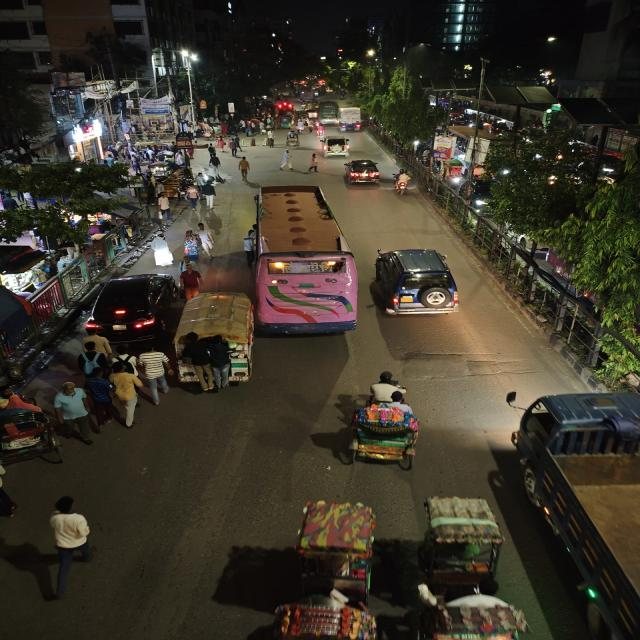bus: (245, 176, 356, 338), (317, 100, 340, 124)
car: (369, 244, 466, 322), (86, 269, 176, 336), (341, 157, 382, 188), (459, 179, 496, 209), (324, 136, 352, 156)
human_hauler: (168, 300, 250, 390)
motorcycle: (148, 230, 174, 268), (392, 169, 415, 197)
pedestrian: (40, 494, 107, 570), (53, 380, 98, 442), (106, 361, 146, 428), (0, 454, 27, 526), (76, 330, 112, 376), (148, 230, 175, 268), (193, 220, 217, 258), (179, 266, 205, 300), (181, 228, 203, 267), (199, 180, 219, 210), (154, 192, 174, 222), (206, 153, 226, 183), (183, 183, 203, 211), (235, 156, 252, 181), (277, 149, 296, 171), (304, 152, 321, 172), (226, 135, 240, 157), (265, 136, 276, 148)
rickshaw: (265, 506, 388, 640), (416, 490, 510, 636), (335, 370, 432, 471), (0, 383, 61, 461), (284, 130, 302, 148), (278, 116, 294, 130)
truck: (337, 106, 362, 128)
